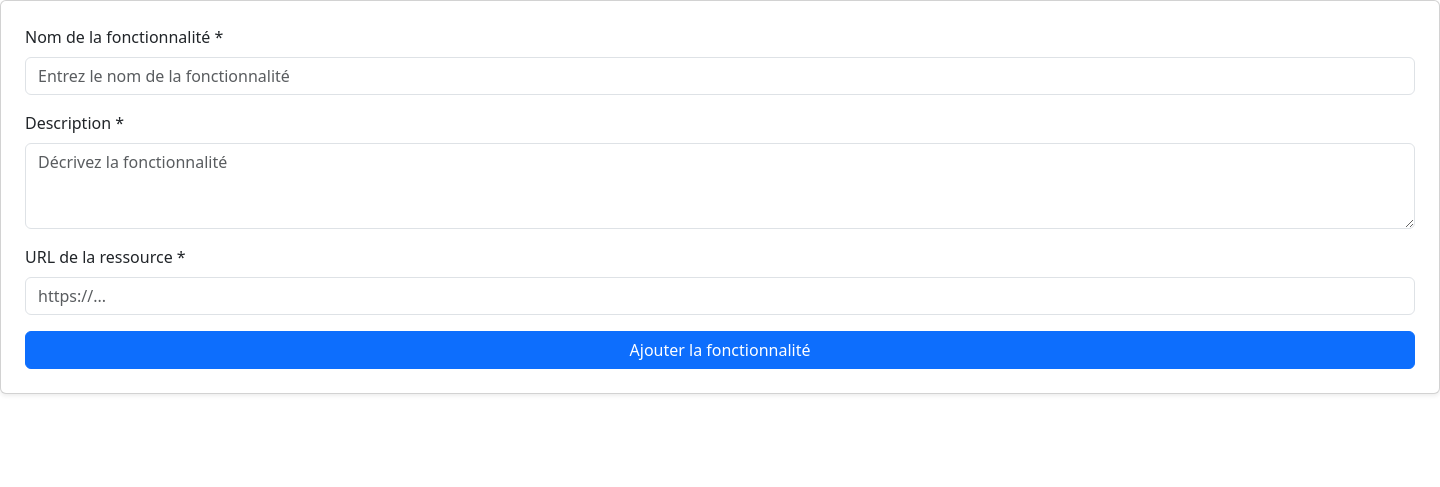
FeatureForm › displays error message on API failure
Step 1. Type "Test Feature" into the field labelled "Nom de la fonctionnalité *" → (720, 76), box [25,57,1415,95]
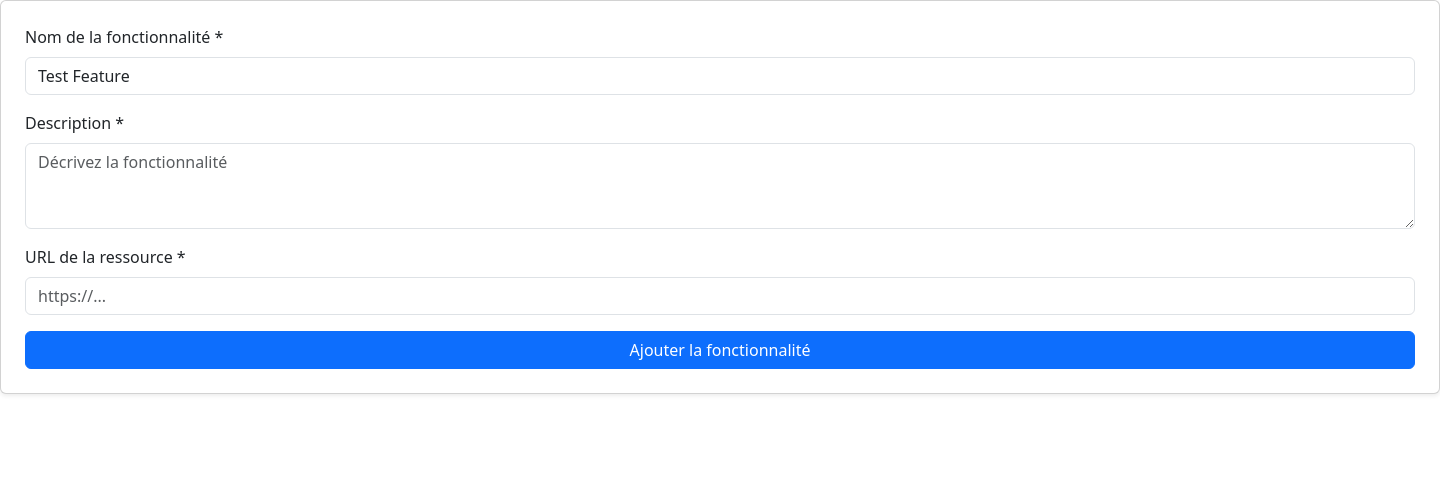
Step 2. Submit the form from the button "Ajouter la fonctionnalité", box [25,331,1415,369]
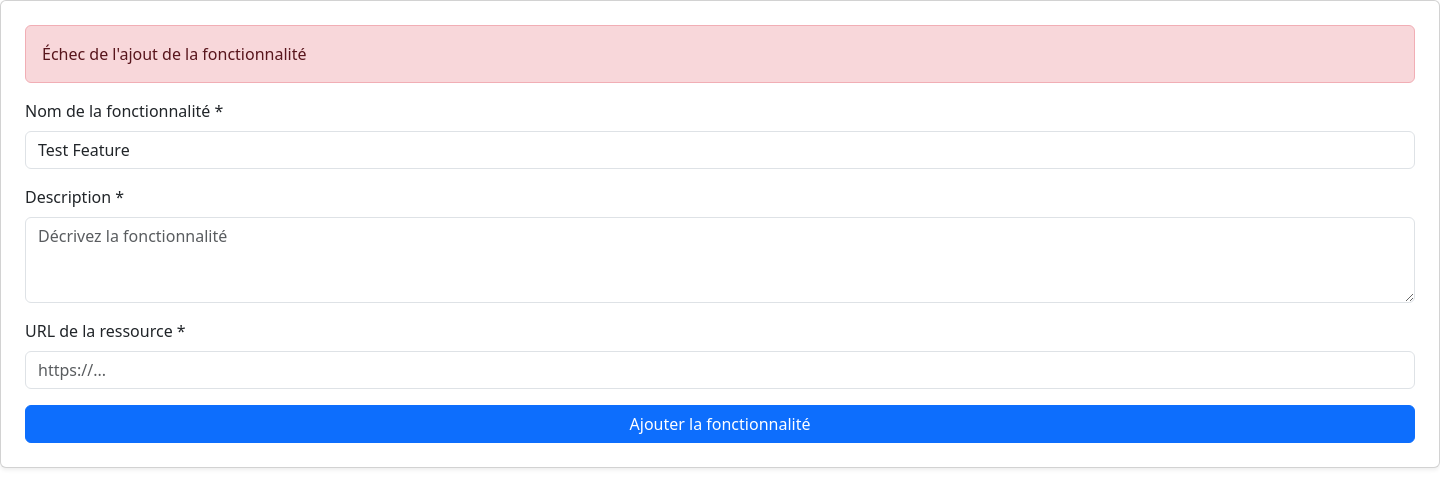
Check: the text "Échec de l'ajout de la fonctionnalité" is shown, box [25,25,1415,83]
